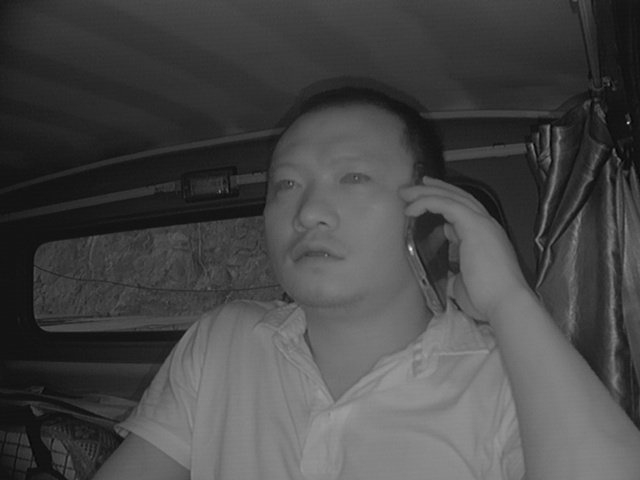hand: (400, 173, 515, 322)
